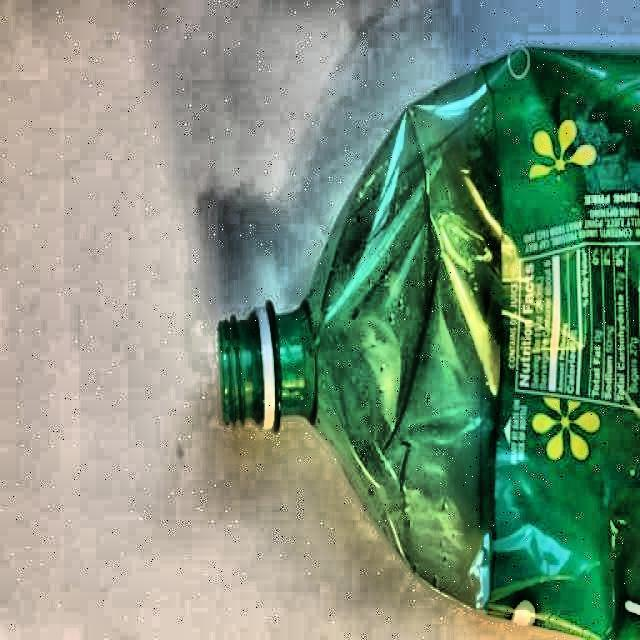plastic: (218, 45, 640, 640)
